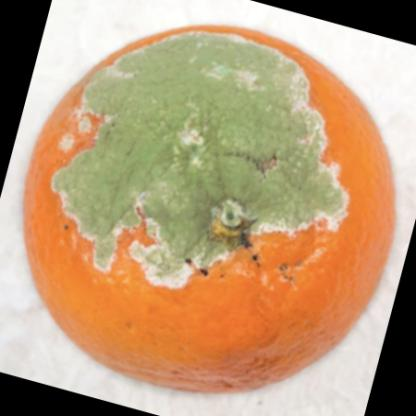rotten: (24, 25, 395, 397)
